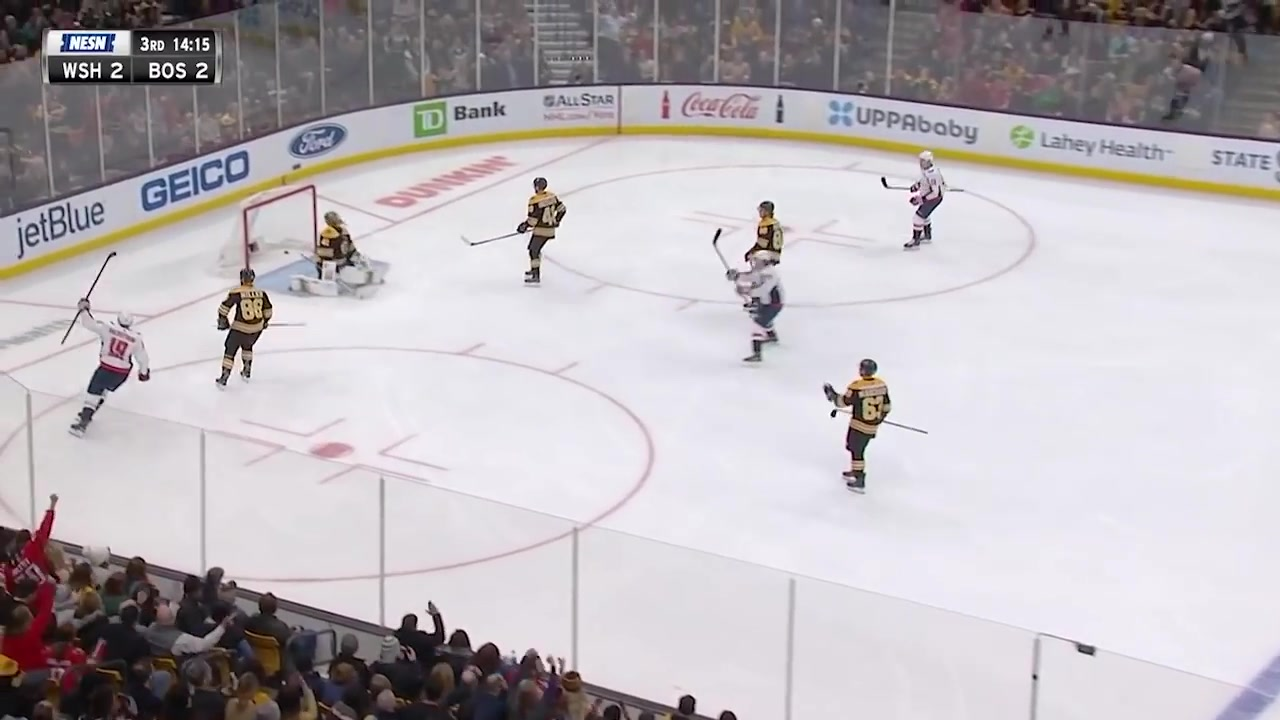geico: (136, 149, 258, 213)
